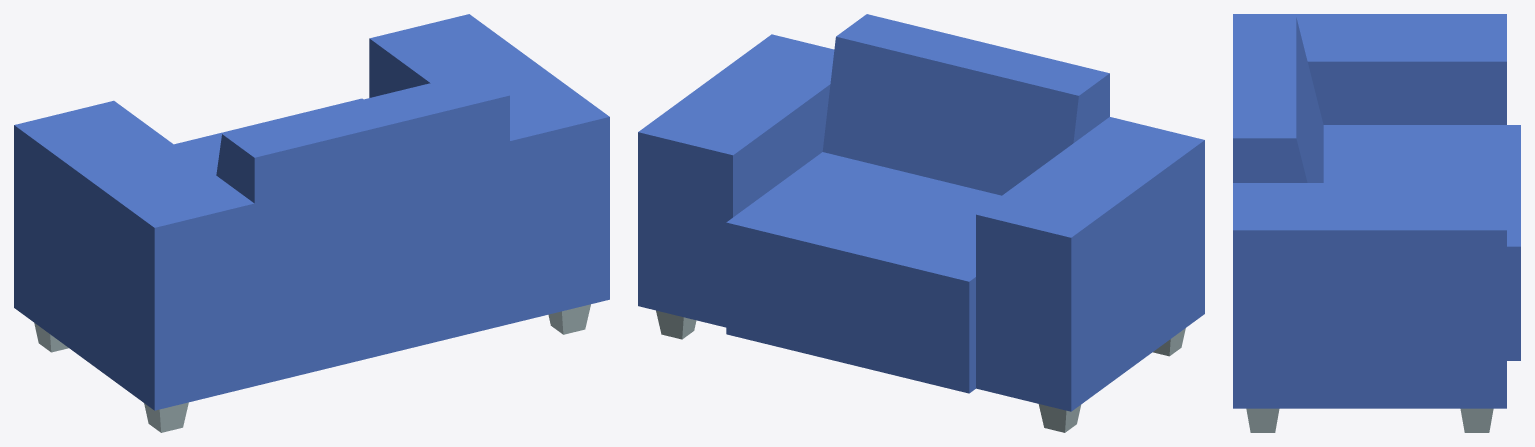
Rendered from loungeDesignChair.fbx.
3 views of the same model, side by side, from view 1: azimuth 30°, elevation 25°; view 2: azimuth 150°, elevation 25°; view 3: azimuth 270°, elevation 25° (orthographic). The views are drawn at different scales.
Visible parts, largest first — view 1: loungeDesignChair; view 2: loungeDesignChair; view 3: loungeDesignChair.
Boxes of the visible parts, x1,y1,x2,y2 form: loungeDesignChair: (14,14,609,432); loungeDesignChair: (638,14,1204,432); loungeDesignChair: (1233,14,1520,432).
Bounding box in the file's own units: 7.3 × 4 × 4.1.
